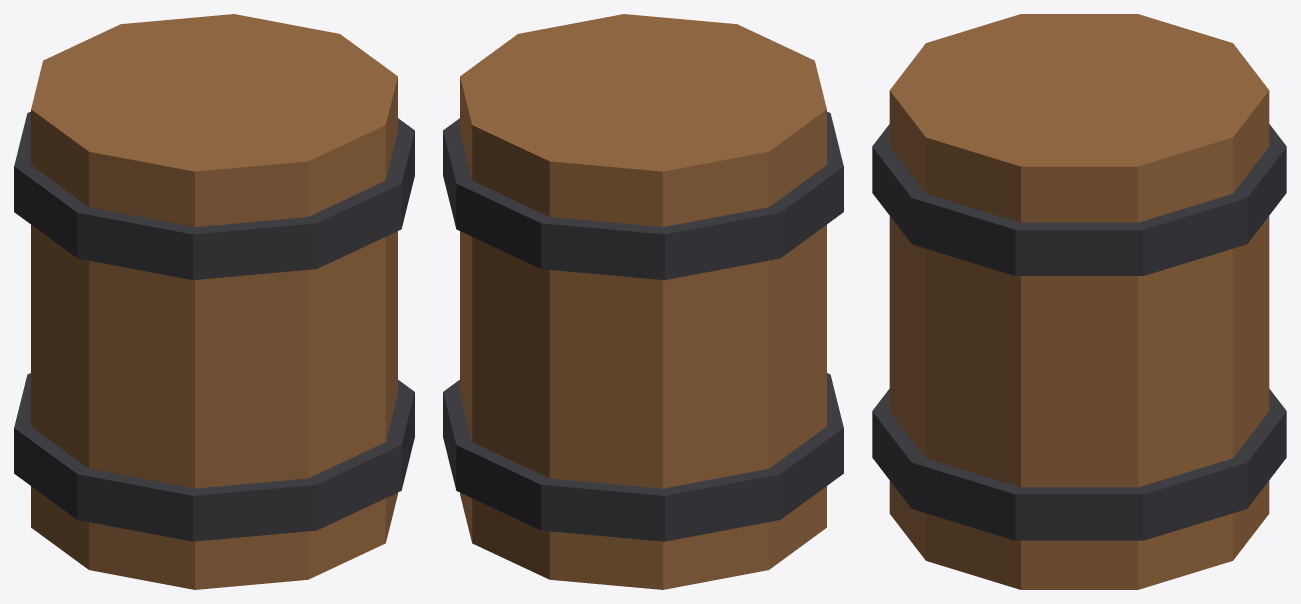
The model's file is prop_barrel.glb.
3 renders of one model, left to right at view 1: azimuth 30°, elevation 25°; view 2: azimuth 150°, elevation 25°; view 3: azimuth 270°, elevation 25°, orthographic.
Visible parts, largest first — view 1: barrel, iron; view 2: barrel, iron; view 3: barrel, iron.
Part boxes in pixels (left/top/right/bottom): barrel: left=31, top=14, right=397, bottom=589; iron: left=14, top=111, right=414, bottom=541; barrel: left=460, top=14, right=826, bottom=589; iron: left=443, top=111, right=843, bottom=541; barrel: left=889, top=14, right=1269, bottom=589; iron: left=872, top=124, right=1286, bottom=540.
Bounding box in the file's own units: 0.2701 × 0.32 × 0.284.
